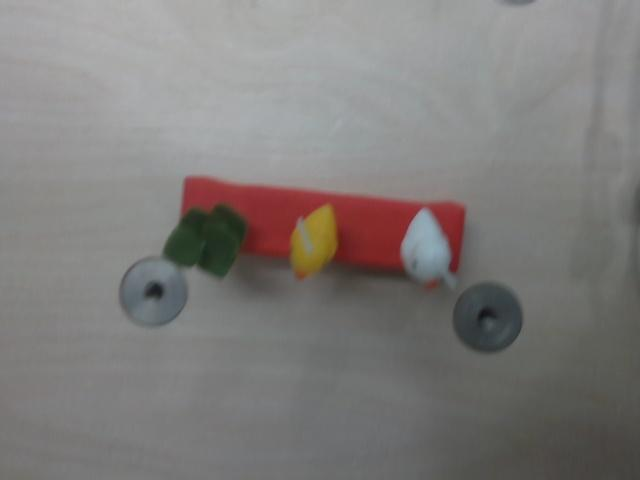leaf: (163, 201, 247, 279)
w_duck: (402, 207, 459, 290)
y_duck: (290, 202, 338, 282)
